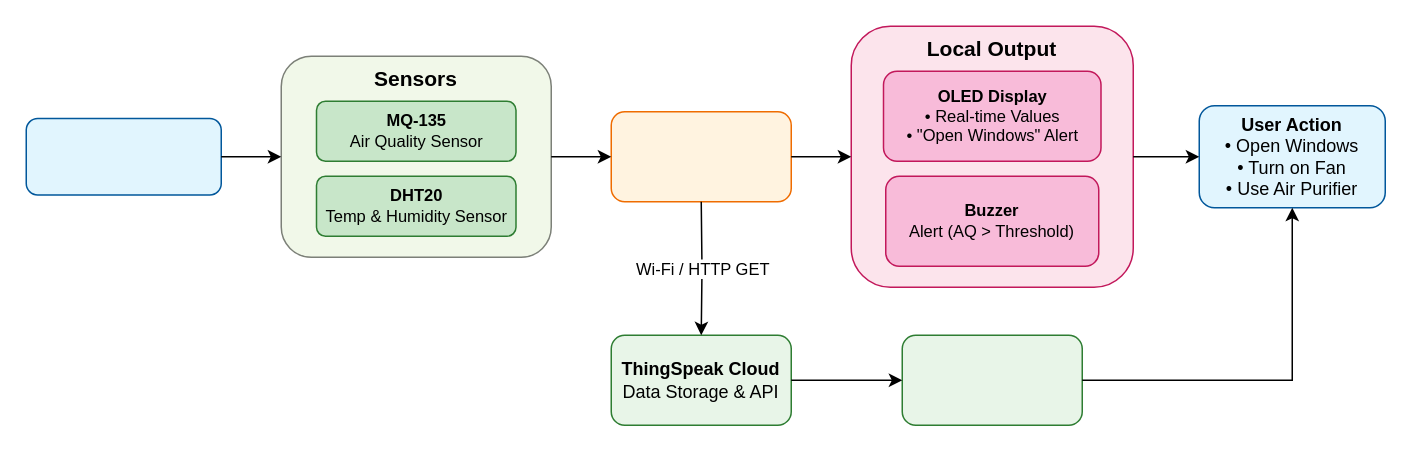
Some shapes in this 1412 by 452 pixel diagram are drawn without their labels. The shapes that lost their labels are listed below. From the top down, each one's centre as x and y in pixels, then its label:
At (123,156): "User/Environment".
At (700,156): "ESP32 TTGO Microcontroller".
At (991,379): "Web Dashboard Data Visualization & Trends".
